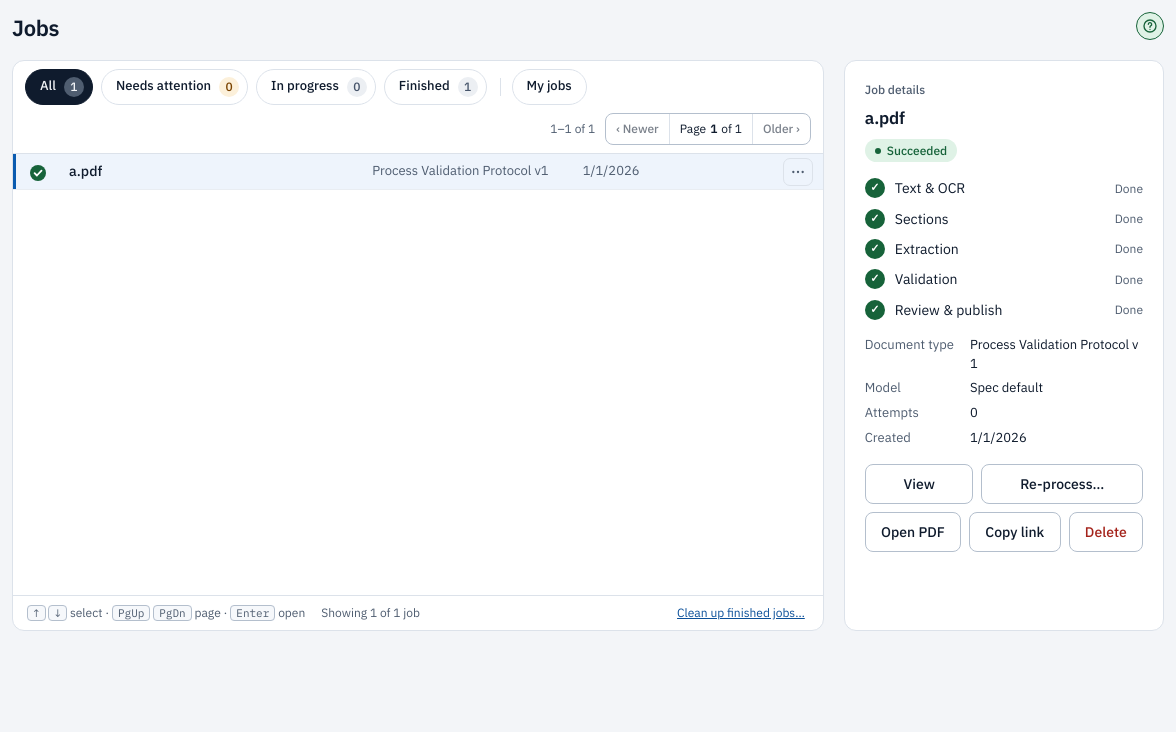
JobsPage › falls back when a chip hides the selected job, and says when a view is empty
Click the button "Needs attention 0" at (174, 87), box [101,69,248,105]
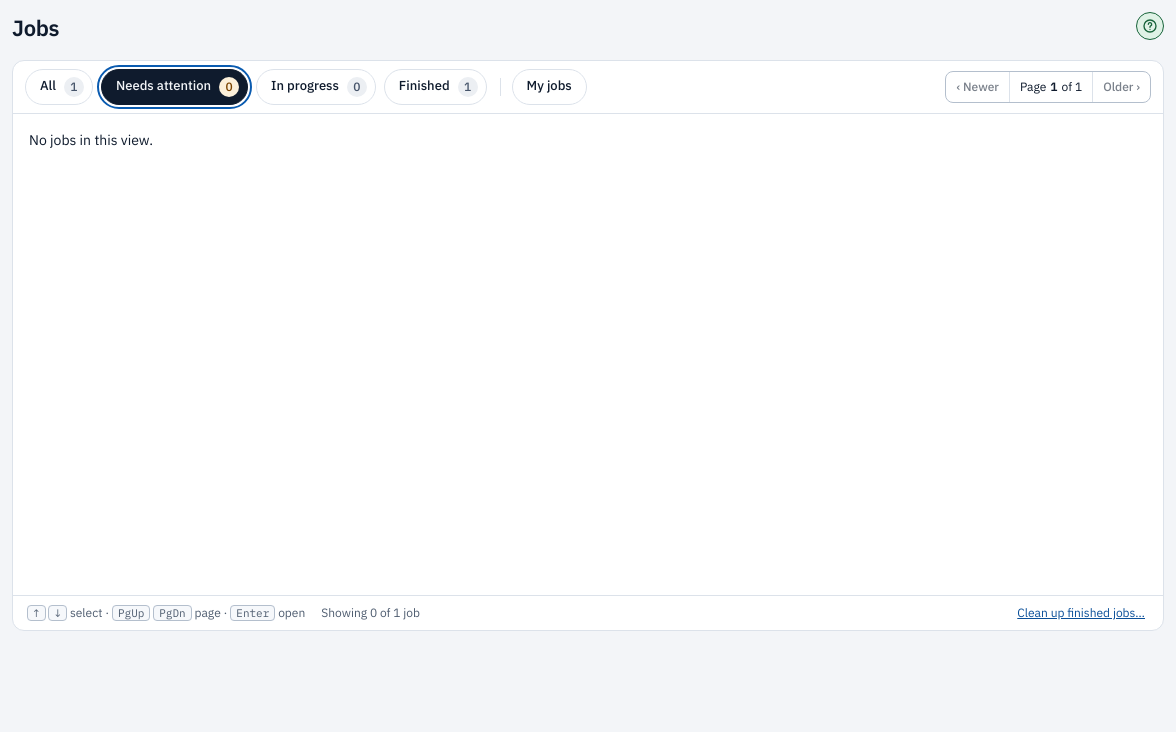
Now the text "No jobs in this view." is shown, box [29,131,153,149]
Now the text "Job details" is gone
